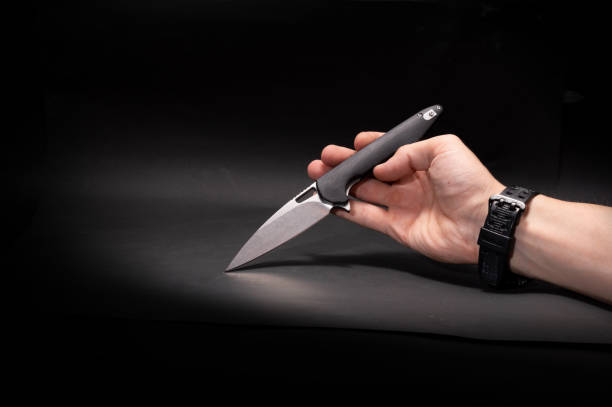knife: (221, 101, 447, 275)
